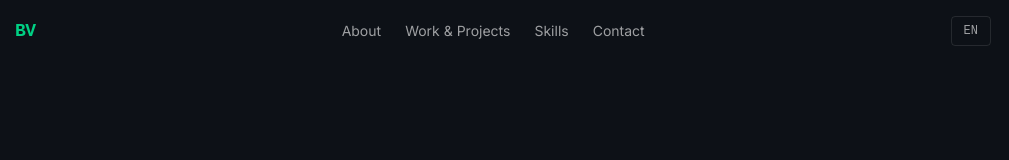
Test: Navbar › кнопка языка показывает EN и переключает на RU
Click the button with aria-label "Toggle language" at (971, 31), box [951,16,991,46]
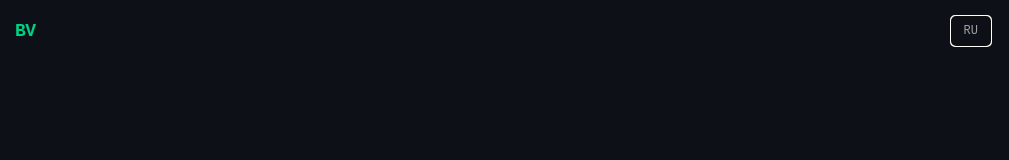
Result: the button with aria-label "Toggle language" reads "RU" at [951,16,991,46]
